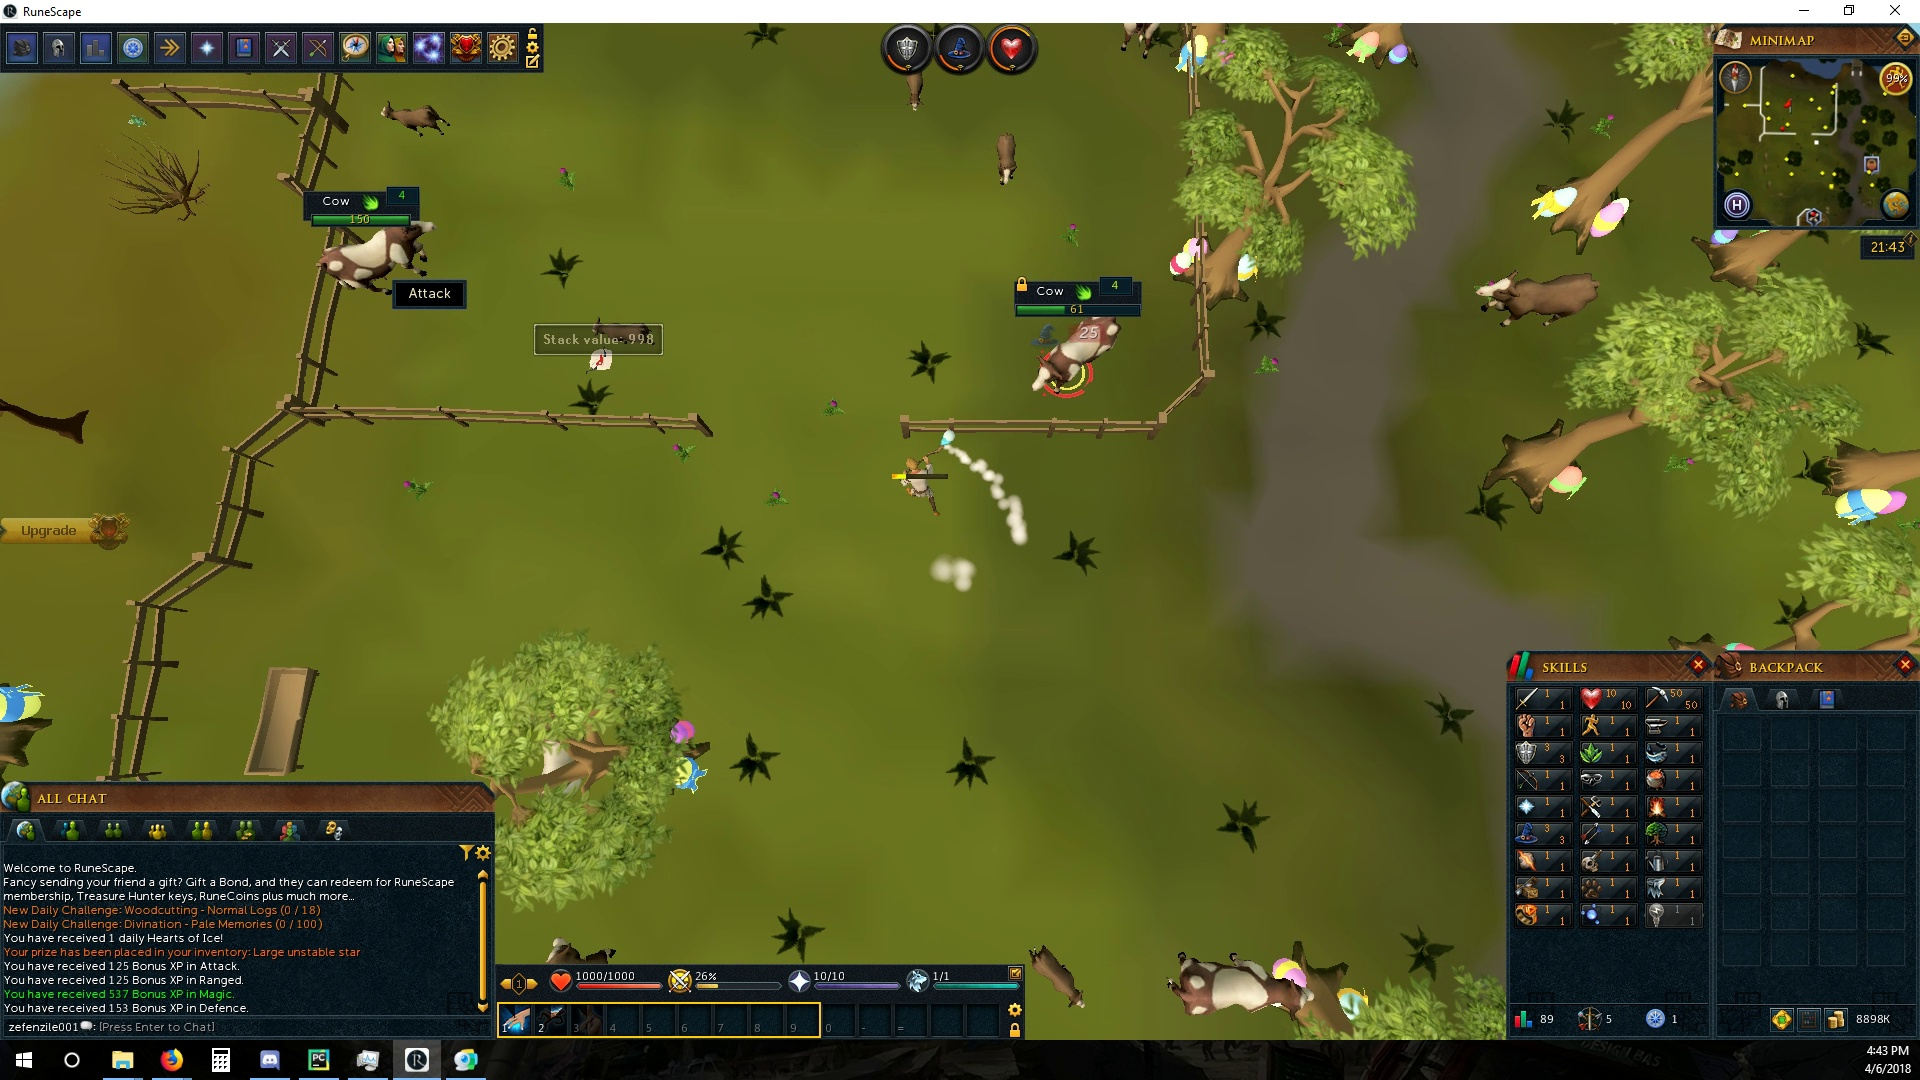calf: (1026, 942, 1091, 1015), (380, 102, 459, 138), (589, 319, 659, 345), (996, 132, 1017, 193), (901, 74, 928, 117)
cow: (1160, 947, 1315, 1033), (315, 216, 444, 302), (1469, 262, 1605, 338), (1018, 318, 1124, 396)
